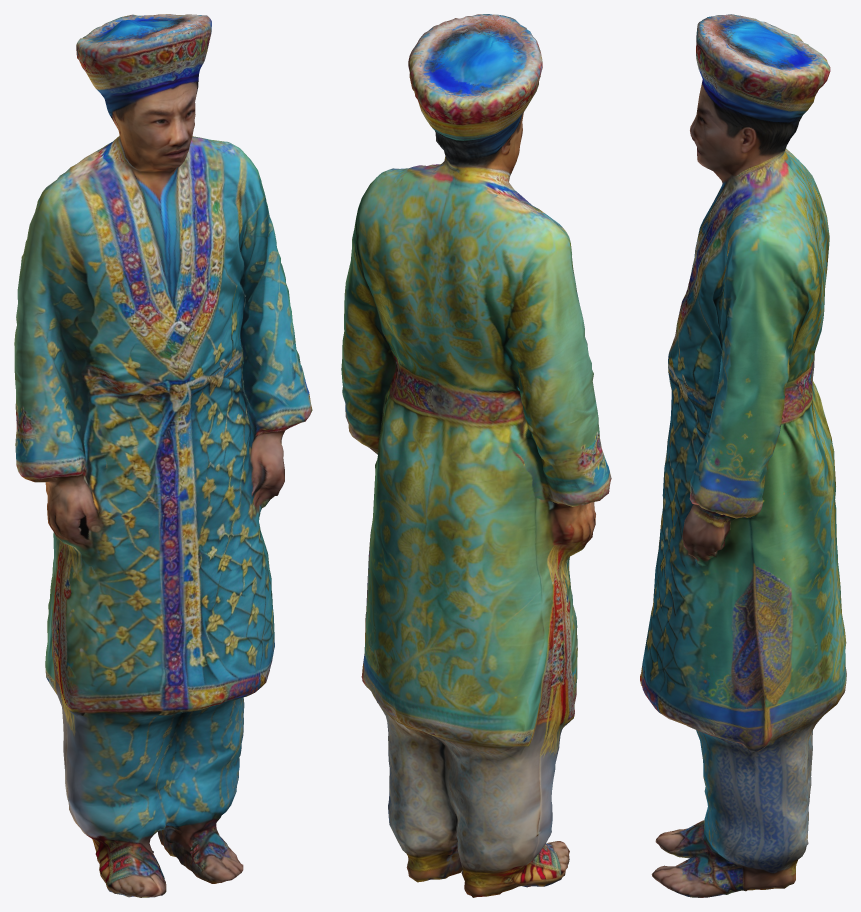
The model's file is Uzbekistan.glb.
The picture shows the model from 3 angles, left to right: view 1: azimuth 30°, elevation 25°; view 2: azimuth 150°, elevation 25°; view 3: azimuth 270°, elevation 25°; orthographic projection.
Size of the model in its own units: 0.3969 by 1.2 by 0.2651.
Materials: 1 (1 with a texture image).
